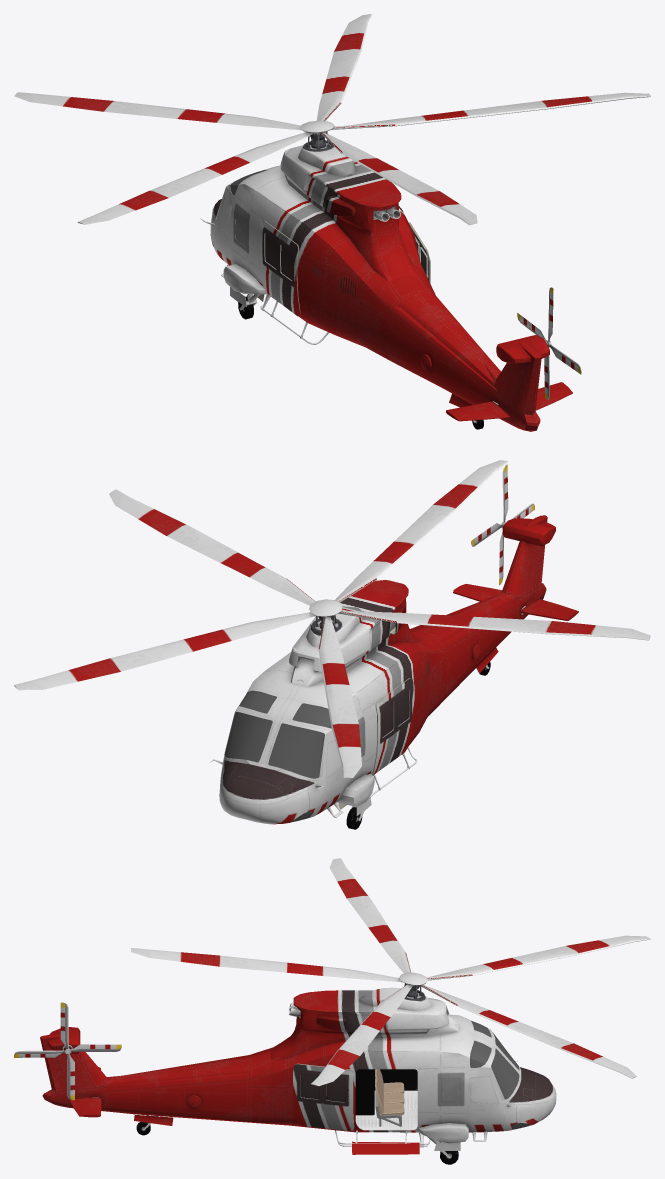
File: helicopter01.fbx
3 renders of one model, top to bottom at view 1: azimuth 30°, elevation 25°; view 2: azimuth 150°, elevation 25°; view 3: azimuth 270°, elevation 25°, orthographic. The views are drawn at different scales.
Visible parts, largest first — view 1: defaultMaterial, defaultMaterial.006, defaultMaterial.008; view 2: defaultMaterial, defaultMaterial.006, defaultMaterial.008; view 3: defaultMaterial, defaultMaterial.006, defaultMaterial.008.
Part boxes in pixels (x1,y1,x2,y2): defaultMaterial: (200, 131, 572, 431); defaultMaterial.006: (14, 14, 650, 225); defaultMaterial.008: (517, 287, 581, 399); defaultMaterial: (209, 515, 578, 829); defaultMaterial.006: (14, 460, 650, 778); defaultMaterial.008: (471, 464, 534, 585); defaultMaterial: (40, 983, 556, 1164); defaultMaterial.006: (131, 858, 650, 1086); defaultMaterial.008: (14, 1002, 121, 1100).
Size of the model in its own units: 1402 by 537 by 1647.
Materials: 3 (3 with a texture image).
